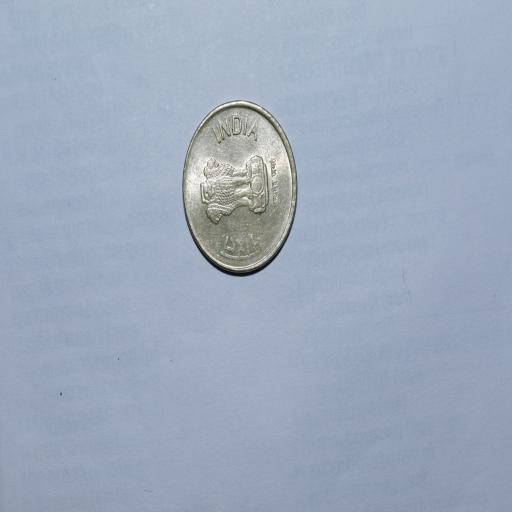rupee5: (181, 101, 298, 276)
